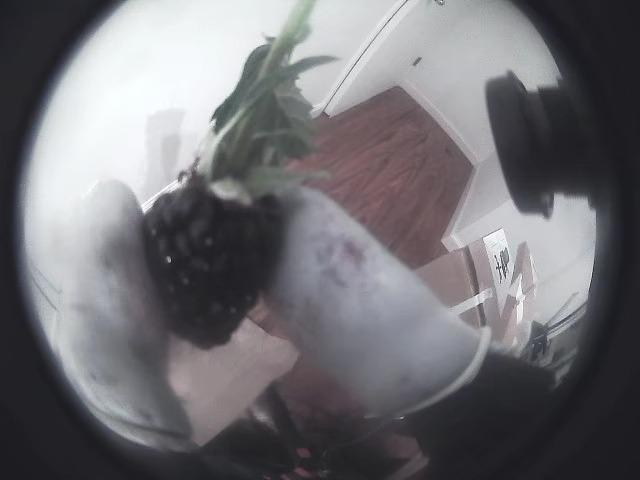berry: (142, 0, 314, 347)
gripper: (265, 187, 489, 417), (57, 180, 200, 449)
lense: (472, 0, 639, 479), (0, 0, 154, 479)
